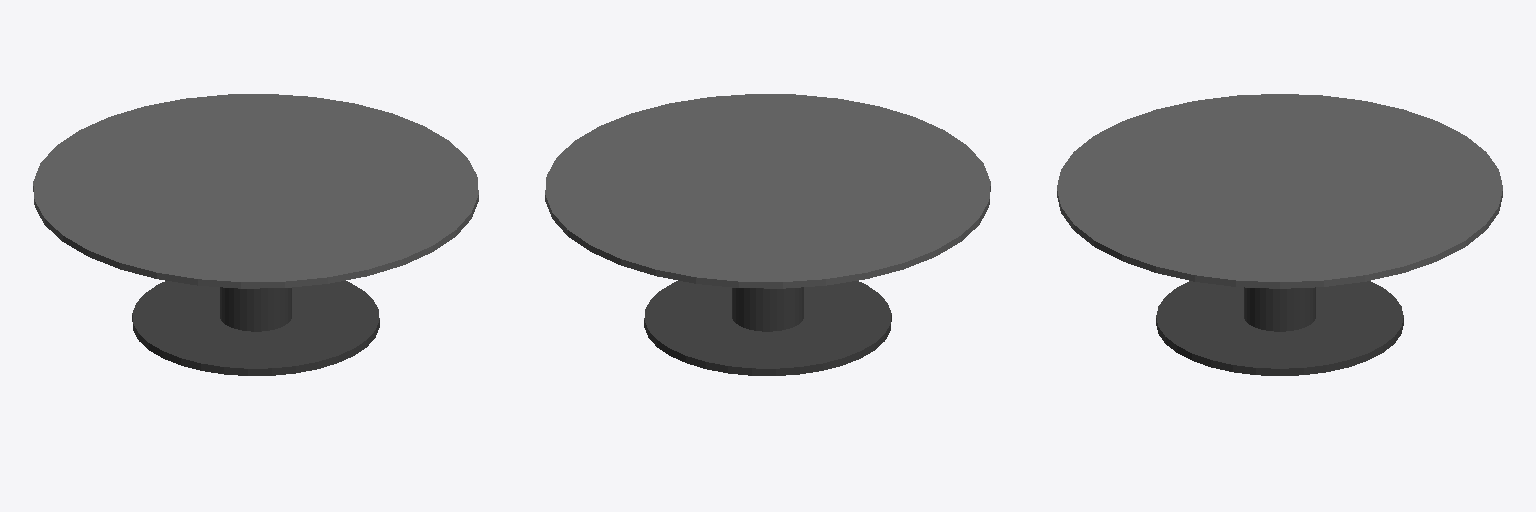
Rendered from round_table.obj.
The picture shows the model from 3 angles: view 1: azimuth 30°, elevation 25°; view 2: azimuth 150°, elevation 25°; view 3: azimuth 270°, elevation 25°; orthographic projection.
Parts seen in each view (by area): view 1: Cylinder, Cylinder.002, Cylinder.001; view 2: Cylinder, Cylinder.002, Cylinder.001; view 3: Cylinder, Cylinder.002, Cylinder.001.
Part boxes in pixels (left/top/right/bottom): Cylinder: left=33, top=94, right=478, bottom=288; Cylinder.002: left=132, top=281, right=379, bottom=375; Cylinder.001: left=220, top=287, right=291, bottom=331; Cylinder: left=545, top=94, right=990, bottom=288; Cylinder.002: left=644, top=281, right=891, bottom=375; Cylinder.001: left=732, top=287, right=803, bottom=331; Cylinder: left=1057, top=94, right=1502, bottom=288; Cylinder.002: left=1156, top=281, right=1403, bottom=375; Cylinder.001: left=1244, top=287, right=1315, bottom=331.
Size of the model in its own units: 2.48 by 0.8331 by 2.48.